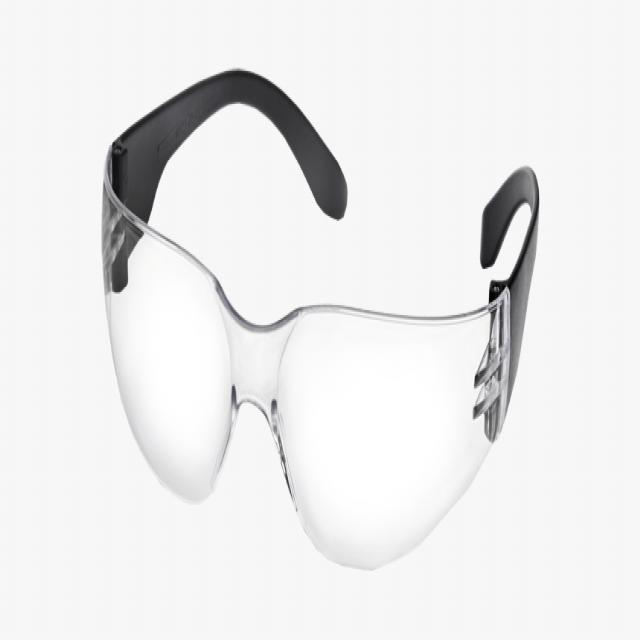Protective Glasses: (25, 26, 612, 604)
